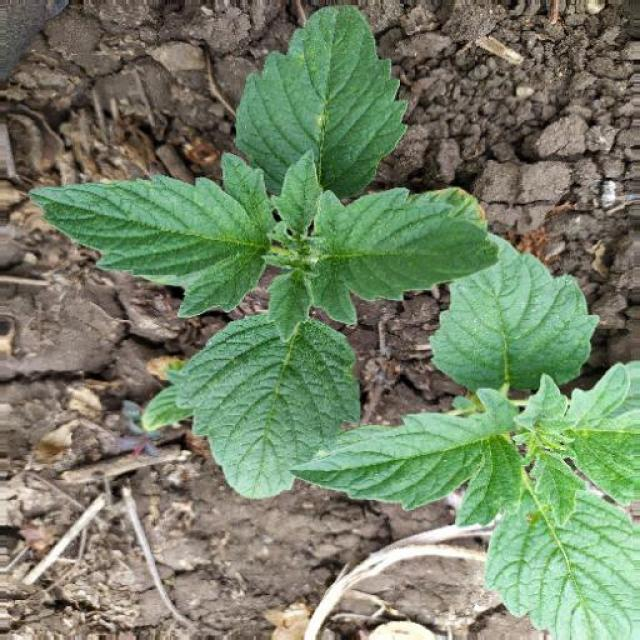crop: (30, 24, 516, 488), (305, 223, 639, 632)
